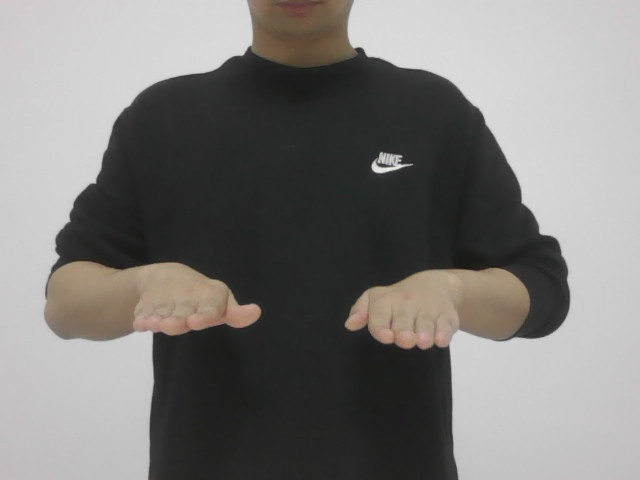flat: (122, 257, 468, 360)
